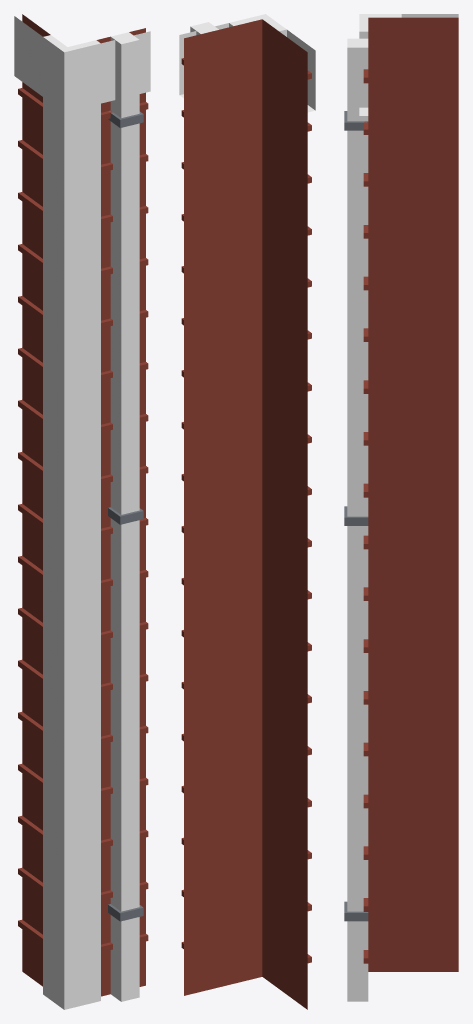
The model's file is mid-c1_close.fbx.
The picture shows the model from 3 angles, left to right: view 1: azimuth 30°, elevation 25°; view 2: azimuth 210°, elevation 25°; view 3: azimuth 270°, elevation 25°; orthographic projection.
Visible parts, largest first — view 1: a2000/200/mid-c1_close; view 2: a2000/200/mid-c1_close; view 3: a2000/200/mid-c1_close.
Boxes of the visible parts, x1,y1,x2,y2 form: a2000/200/mid-c1_close: (14, 14, 150, 1009); a2000/200/mid-c1_close: (179, 14, 315, 1009); a2000/200/mid-c1_close: (344, 14, 458, 1001).
Bounding box in the file's own units: 0.33 × 3.5 × 0.38.
